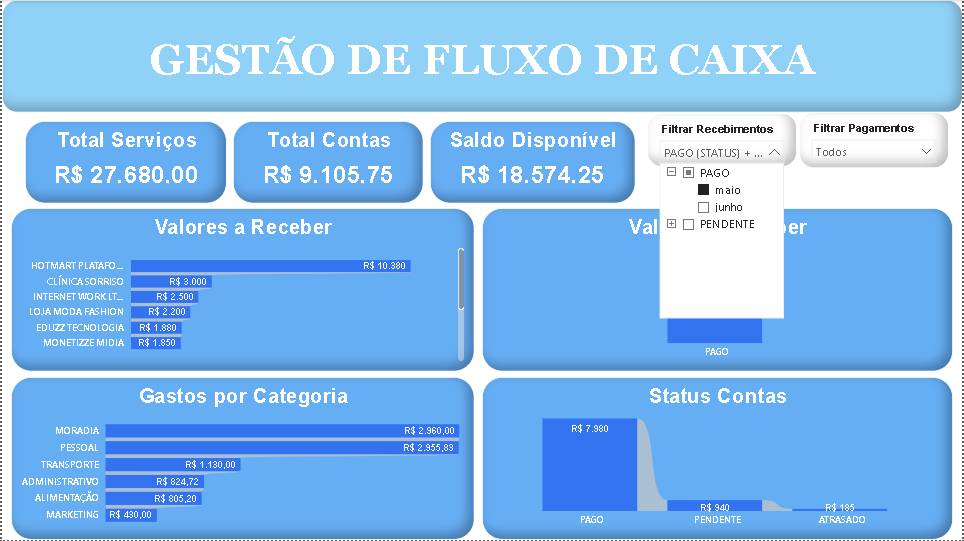

This screenshot's page, from the dashboard's own definition file:
{"tool":"powerbi","page":{"name":"Página 1","canvas":[1280,720],"ordinal":0},"visuals":[{"type":"textbox","box":[0,0,1280.6,150],"z":0},{"type":"barChart","title":"Gastos por Categoria","fields":{"Y":["Sum(CONTAS A PAGAR.VALOR A PAGAR)"],"Category":["CONTAS A PAGAR.CENTRO DE CUSTO"]},"box":[12.5,502.8,618.1,216.7],"z":1000},{"type":"columnChart","title":"Status Contas","fields":{"Category":["CONTAS A PAGAR.STATUS"],"Y":["Sum(CONTAS A PAGAR.VALOR A PAGAR)"]},"box":[640.3,502.8,627.8,216.7],"z":2000},{"type":"barChart","title":"Valores a Receber","fields":{"Category":["CONTAS A RECEBER.CLIENTE "],"Y":["Sum(CONTAS A RECEBER.VALOR A RECEBER)"]},"box":[12.5,277.8,618.1,218.1],"z":3000},{"type":"columnChart","title":"Valores a Receber","fields":{"Category":["CONTAS A RECEBER.STATUS"],"Y":["Sum(CONTAS A RECEBER.VALOR A RECEBER)"]},"box":[640.3,277.8,627.8,218.1],"z":4000},{"type":"cardVisual","title":"Total Contas","fields":{"Data":["Sum(CONTAS A PAGAR.VALOR A PAGAR)"]},"box":[308.3,161.1,254.2,109.7],"z":7000},{"type":"cardVisual","title":"Total Serviços","fields":{"Data":["Sum(CONTAS A RECEBER.VALOR A RECEBER)"]},"box":[30.6,161.1,269.4,109.7],"z":8000},{"type":"cardVisual","title":"Saldo Disponível","fields":{"Data":["CONTAS A RECEBER.Saldo"]},"box":[570.8,161.1,273.6,109.7],"z":9000},{"type":"slicer","fields":{"Values":["CONTAS A RECEBER.STATUS","CONTAS A RECEBER.DATA DE PAGAMENTO .Variation.Hierarquia de datas.Mês"]},"box":[859.7,150,200,72.2],"z":9500},{"type":"slicer","fields":{"Values":["CONTAS A PAGAR.STATUS","CONTAS A PAGAR.DATA DE VENCIMENTO .Variation.Hierarquia de datas.Mês"]},"box":[1062.7,149.3,200,74.7],"z":10000}]}

Visuals, with their boxes in screenshot pixels (x1, y1, x2, y2), scaled from the page's 1280x720 canvas onto the 964x541 screenshot:
textbox: {"x1": 0, "y1": 0, "x2": 963, "y2": 113}
"Gastos por Categoria" barChart: {"x1": 9, "y1": 378, "x2": 475, "y2": 540}
"Status Contas" columnChart: {"x1": 482, "y1": 378, "x2": 955, "y2": 540}
"Valores a Receber" barChart: {"x1": 9, "y1": 209, "x2": 475, "y2": 373}
"Valores a Receber" columnChart: {"x1": 482, "y1": 209, "x2": 955, "y2": 373}
"Total Contas" cardVisual: {"x1": 232, "y1": 121, "x2": 424, "y2": 203}
"Total Serviços" cardVisual: {"x1": 23, "y1": 121, "x2": 226, "y2": 203}
"Saldo Disponível" cardVisual: {"x1": 430, "y1": 121, "x2": 636, "y2": 203}
slicer - CONTAS A RECEBER.STATUS x CONTAS A RECEBER.DATA DE PAGAMENTO .Variation.Hierarquia de datas.Mês: {"x1": 647, "y1": 113, "x2": 798, "y2": 167}
slicer - CONTAS A PAGAR.STATUS x CONTAS A PAGAR.DATA DE VENCIMENTO .Variation.Hierarquia de datas.Mês: {"x1": 800, "y1": 112, "x2": 951, "y2": 168}
